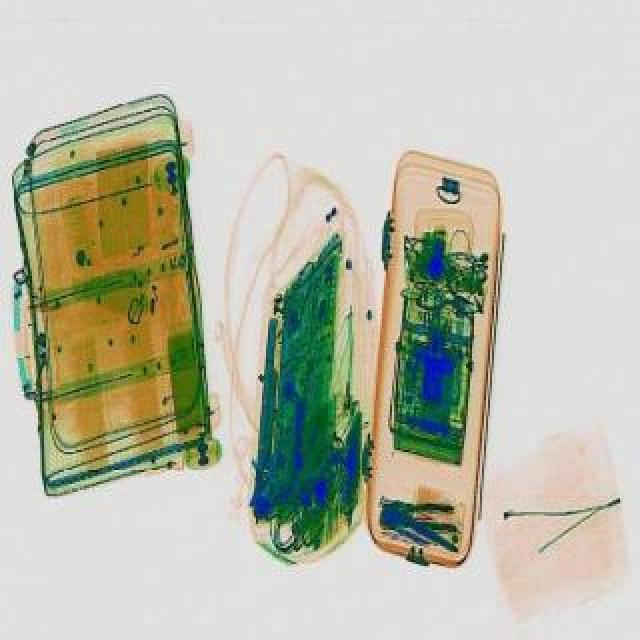wrench: (410, 262, 490, 330), (380, 496, 460, 532)
